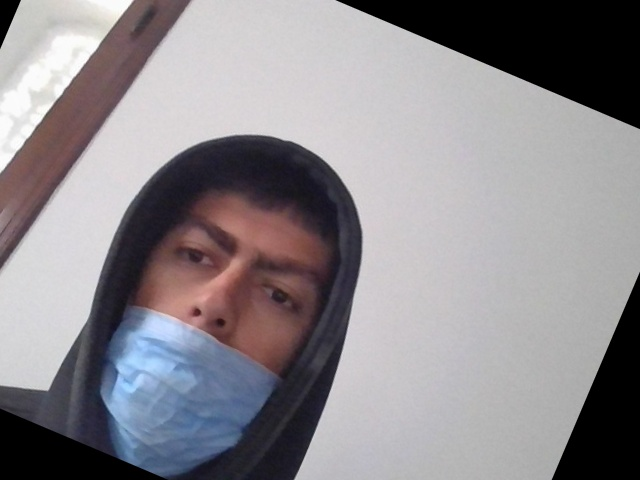mask_weared_incorrect: (92, 179, 341, 468)
